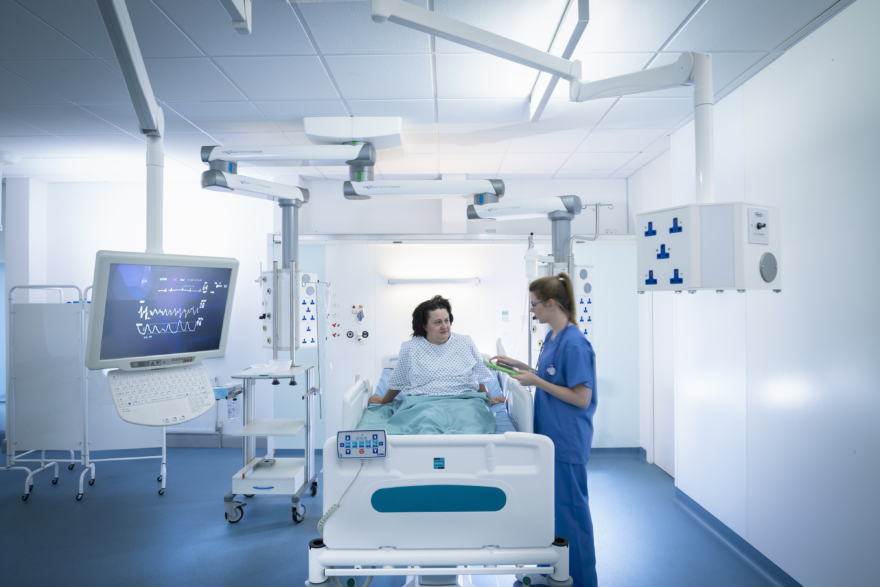bedrail: (342, 380, 372, 427), (511, 377, 534, 432)
computer: (87, 253, 241, 429)
foot_board: (322, 433, 557, 550)
hospital_bed: (308, 351, 579, 587)
keyboard: (106, 367, 212, 418)
patient: (372, 294, 509, 443)
staff: (491, 269, 599, 587)
utility_cart: (220, 361, 318, 526)
